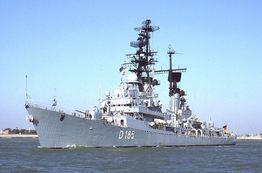warship: (22, 18, 238, 150)
